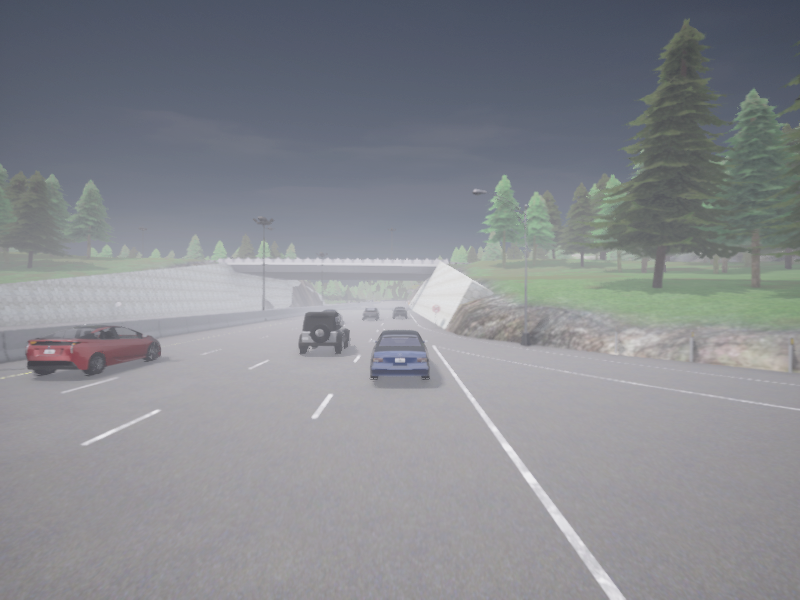vehicle: (25, 325, 160, 375), (370, 329, 429, 378), (299, 312, 349, 353), (324, 309, 342, 322), (363, 307, 379, 319), (393, 307, 406, 317)
